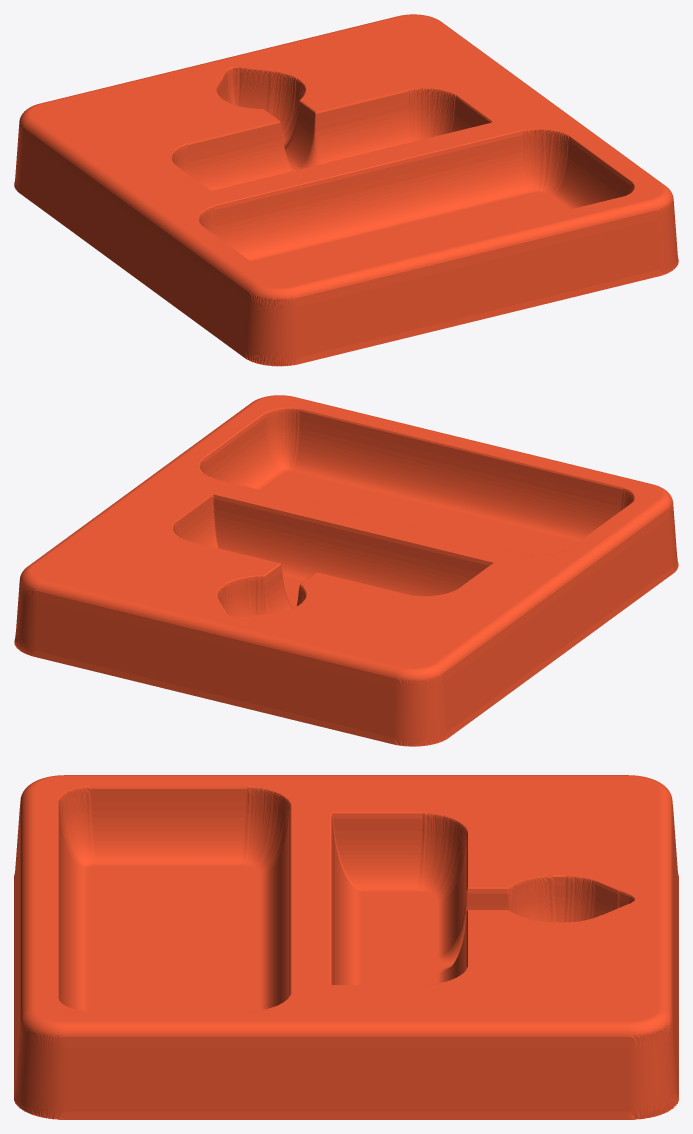
Rendered from mold.glb.
3 renders of one model, top to bottom at view 1: azimuth 30°, elevation 25°; view 2: azimuth 150°, elevation 25°; view 3: azimuth 270°, elevation 25°, orthographic. The views are drawn at different scales.
Parts seen in each view (by area): view 1: geometry_0; view 2: geometry_0; view 3: geometry_0.
Boxes of the visible parts, <box> form: geometry_0: <box>14,14,678,366</box>; geometry_0: <box>14,395,678,746</box>; geometry_0: <box>14,775,678,1119</box>.
Bounding box in the file's own units: 0.11 × 0.0175 × 0.1178.
